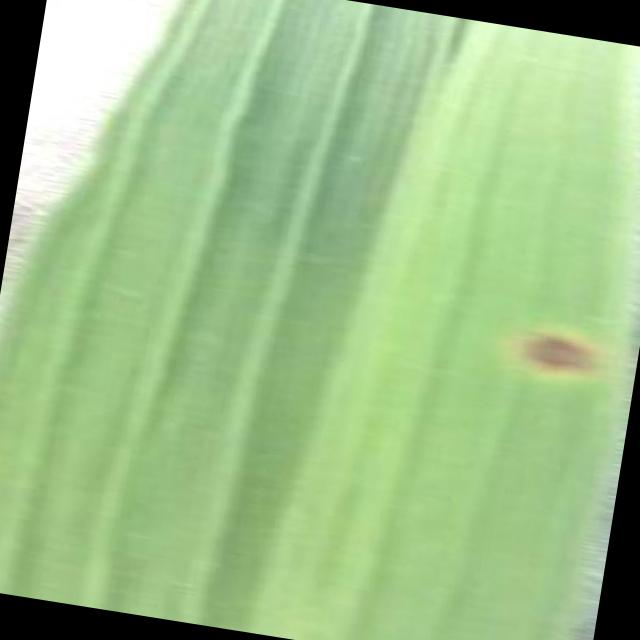Rice_Brownspot: (486, 290, 628, 412)
